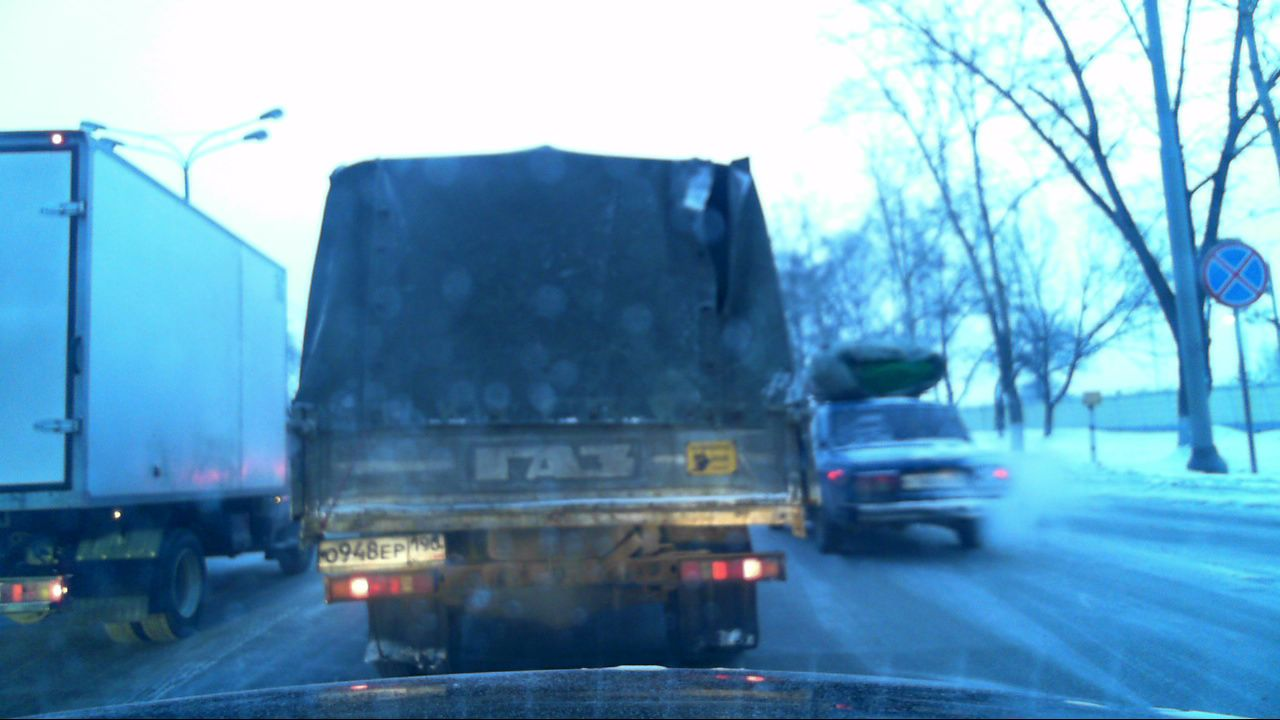No Parking: (1198, 239, 1267, 311)
